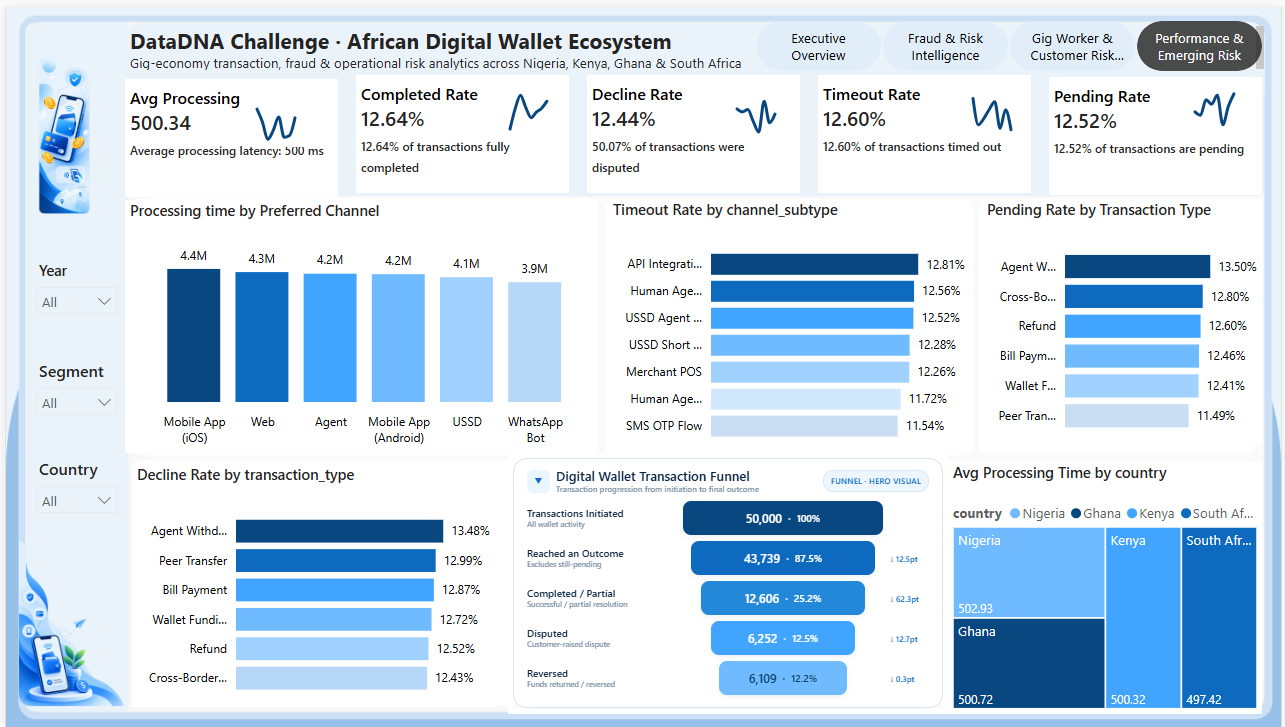

This screenshot's page, from the dashboard's own definition file:
{"tool":"powerbi","page":{"name":"Performance & Emerging Risk","canvas":[1280,720],"ordinal":3},"visuals":[{"type":"cardVisual","fields":{"Data":["Measure.Completed Rate"]},"box":[352,68.2,212.7,118.2],"z":0},{"type":"lineChart","fields":{"Category":["dim_date.full_date.Variation.Date Hierarchy.Year","dim_date.full_date.Variation.Date Hierarchy.Quarter"],"Y":["Measure.Completed Rate"]},"box":[490.9,70,67.3,63.6],"z":1000},{"type":"cardVisual","fields":{"Data":["Measure.Decline Rate"]},"box":[583.2,68.2,212.7,118.2],"z":2000},{"type":"lineChart","fields":{"Category":["dim_date.full_date.Variation.Date Hierarchy.Year","dim_date.full_date.Variation.Date Hierarchy.Quarter"],"Y":["Measure.Decline Rate"]},"box":[718.2,71.8,68.2,61.8],"z":3000},{"type":"cardVisual","fields":{"Data":["Measure.Timeout Rate"]},"box":[814.3,68.2,212.7,118.2],"z":4000},{"type":"lineChart","fields":{"Category":["dim_date.full_date.Variation.Date Hierarchy.Year","dim_date.full_date.Variation.Date Hierarchy.Quarter"],"Y":["Measure.Timeout Rate"]},"box":[943.6,71.8,68.2,61.8],"z":5000},{"type":"lineChart","fields":{"Category":["dim_date.full_date.Variation.Date Hierarchy.Year","dim_date.full_date.Variation.Date Hierarchy.Quarter"],"Y":["Measure.Avg Fraud Loss"]},"box":[953.6,71.8,68.2,61.8],"z":6000},{"type":"clusteredColumnChart","title":"Processing time by Preferred Channel","fields":{"Category":["dim_worker.preferred_channel"],"Y":["Sum(fact_transactions.processing_time_ms)"]},"box":[121,193,470,253],"z":7000},{"type":"treemap","fields":{"Group":["dim_market.country"],"Values":["Measure.Avg Processing Time"]},"box":[943.9,454.8,314.3,252],"z":8000},{"type":"clusteredBarChart","fields":{"Category":["dim_channel.channel_subtype"],"Y":["Measure.Timeout Rate"]},"box":[604,192,362,254],"z":9000},{"type":"clusteredBarChart","fields":{"Category":["fact_transactions.transaction_type"],"Y":["Measure.Decline Rate"]},"box":[128.2,457.5,362.6,242.3],"z":10000},{"type":"textbox","box":[120.9,13.6,1144.5,54.5],"z":11000},{"type":"cardVisual","fields":{"Data":["Measure.Average Processing Time"]},"box":[120.9,71.8,212.7,118.2],"z":12000},{"type":"lineChart","fields":{"Category":["dim_date.full_date.Variation.Date Hierarchy.Year","dim_date.full_date.Variation.Date Hierarchy.Quarter"],"Y":["Measure.Avg Processing Time"]},"box":[238.2,78.2,68.2,61.8],"z":13000},{"type":"cardVisual","fields":{"Data":["Measure.Pending Rate"]},"box":[1045.5,70,212.7,118.2],"z":14000},{"type":"lineChart","fields":{"Category":["dim_date.full_date.Variation.Date Hierarchy.Year","dim_date.full_date.Variation.Date Hierarchy.Quarter"],"Y":["Measure.Pending Rate"]},"box":[1176.4,71.8,68.2,61.8],"z":15000},{"type":"clusteredBarChart","title":"Pending Rate by Transaction Type","fields":{"Category":["fact_transactions.transaction_type"],"Y":["Measure.Pending Rate"]},"box":[978.1,192.3,280.1,245.9],"z":16000},{"type":"pageNavigator","box":[752.2,14,505.8,49.9],"z":17000},{"type":"htmlContent443BE3AD55E043BF878BED274D3A6865","fields":{"content":["Measure.HTML Transaction Funnel"]},"box":[504,446,439.9,260.8],"z":18000},{"type":"image","box":[0,14,121.2,229.2],"z":19000},{"type":"slicer","fields":{"Values":["dim_date.full_date.Variation.Date Hierarchy.Year"]},"box":[22,247.6,101,70.2],"z":19001},{"type":"slicer","fields":{"Values":["dim_worker.gig_segment"]},"box":[22,347.7,101,64.1],"z":19002},{"type":"slicer","fields":{"Values":["dim_market.country"]},"box":[22,446,101,64.1],"z":19003},{"type":"image","box":[14.9,521.6,113.3,187],"z":19004}]}

Visuals, with their boxes in screenshot pixels (x1, y1, x2, y2), scaled from the page's 1280x720 canvas onto the 1285x727 screenshot:
cardVisual - Measure.Completed Rate: <bbox>353, 69, 567, 188</bbox>
lineChart - dim_date.full_date.Variation.Date Hierarchy.Year x dim_date.full_date.Variation.Date Hierarchy.Quarter: <bbox>493, 71, 560, 135</bbox>
cardVisual - Measure.Decline Rate: <bbox>585, 69, 799, 188</bbox>
lineChart - dim_date.full_date.Variation.Date Hierarchy.Year x dim_date.full_date.Variation.Date Hierarchy.Quarter: <bbox>721, 72, 789, 135</bbox>
cardVisual - Measure.Timeout Rate: <bbox>817, 69, 1031, 188</bbox>
lineChart - dim_date.full_date.Variation.Date Hierarchy.Year x dim_date.full_date.Variation.Date Hierarchy.Quarter: <bbox>947, 72, 1016, 135</bbox>
lineChart - dim_date.full_date.Variation.Date Hierarchy.Year x dim_date.full_date.Variation.Date Hierarchy.Quarter: <bbox>957, 72, 1026, 135</bbox>
"Processing time by Preferred Channel" clusteredColumnChart: <bbox>121, 195, 593, 450</bbox>
treemap - dim_market.country x Measure.Avg Processing Time: <bbox>948, 459, 1263, 714</bbox>
clusteredBarChart - dim_channel.channel_subtype x Measure.Timeout Rate: <bbox>606, 194, 970, 450</bbox>
clusteredBarChart - fact_transactions.transaction_type x Measure.Decline Rate: <bbox>129, 462, 493, 707</bbox>
textbox: <bbox>121, 14, 1270, 69</bbox>
cardVisual - Measure.Average Processing Time: <bbox>121, 72, 335, 192</bbox>
lineChart - dim_date.full_date.Variation.Date Hierarchy.Year x dim_date.full_date.Variation.Date Hierarchy.Quarter: <bbox>239, 79, 308, 141</bbox>
cardVisual - Measure.Pending Rate: <bbox>1050, 71, 1263, 190</bbox>
lineChart - dim_date.full_date.Variation.Date Hierarchy.Year x dim_date.full_date.Variation.Date Hierarchy.Quarter: <bbox>1181, 72, 1249, 135</bbox>
"Pending Rate by Transaction Type" clusteredBarChart: <bbox>982, 194, 1263, 442</bbox>
pageNavigator: <bbox>755, 14, 1263, 65</bbox>
htmlContent443BE3AD55E043BF878BED274D3A6865 - Measure.HTML Transaction Funnel: <bbox>506, 450, 948, 714</bbox>
image: <bbox>0, 14, 122, 246</bbox>
slicer - dim_date.full_date.Variation.Date Hierarchy.Year: <bbox>22, 250, 123, 321</bbox>
slicer - dim_worker.gig_segment: <bbox>22, 351, 123, 416</bbox>
slicer - dim_market.country: <bbox>22, 450, 123, 515</bbox>
image: <bbox>15, 527, 129, 715</bbox>
